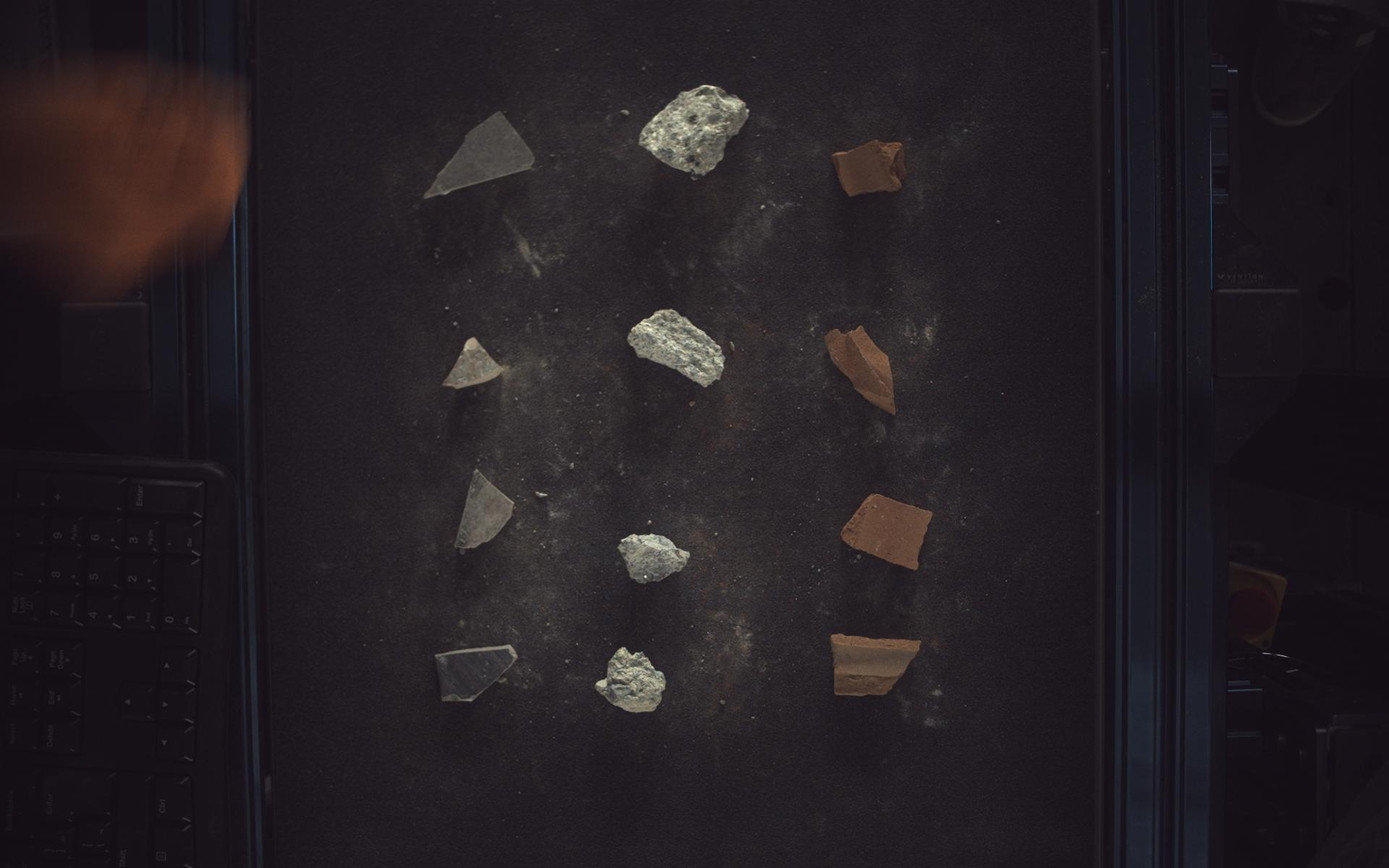brick: (844, 495, 934, 571), (826, 326, 898, 414), (833, 637, 922, 697), (833, 139, 909, 195)
concrete: (640, 83, 750, 175), (628, 309, 726, 387), (595, 648, 666, 714), (619, 535, 690, 584)
tile: (423, 111, 535, 198), (454, 469, 514, 550), (436, 647, 517, 702), (443, 337, 504, 389)
